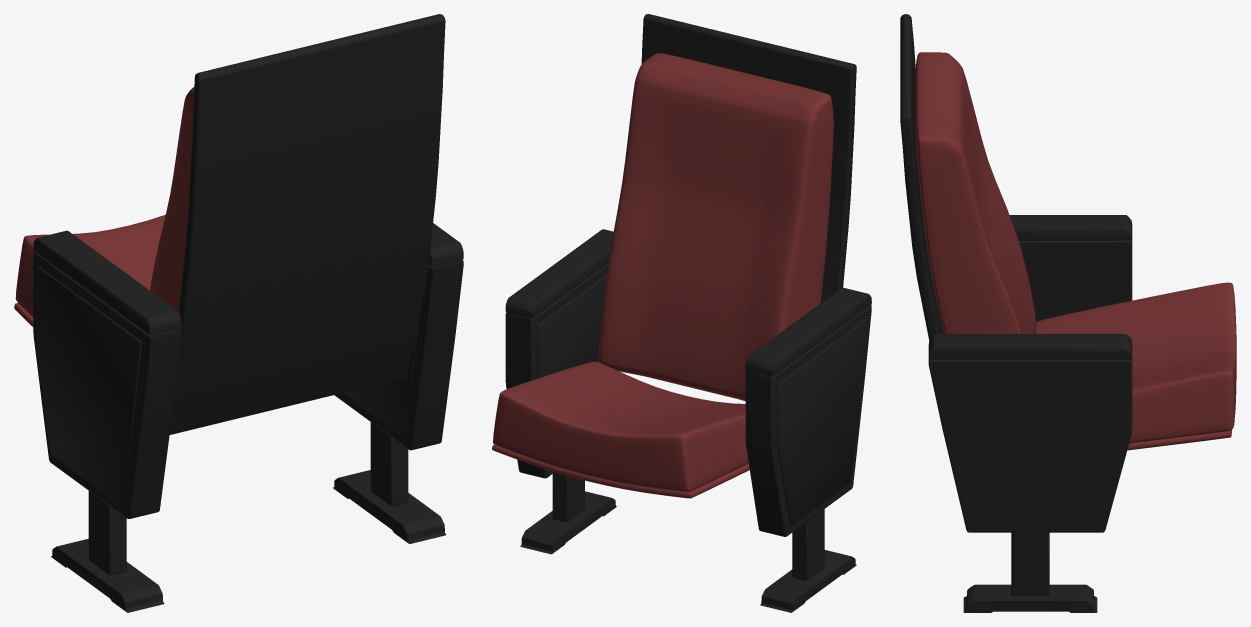
The model's file is seat.glb.
3 renders of one model, left to right at view 1: azimuth 30°, elevation 25°; view 2: azimuth 150°, elevation 25°; view 3: azimuth 270°, elevation 25°, orthographic. The views are drawn at different scales.
Parts seen in each view (by area): view 1: hall_seat; view 2: hall_seat; view 3: hall_seat.
Part boxes in pixels (left/top/right/bottom): hall_seat: left=14, top=14, right=463, bottom=612; hall_seat: left=492, top=14, right=871, bottom=612; hall_seat: left=900, top=14, right=1236, bottom=612.
Size of the model in its own units: 0.5 by 0.829 by 0.5262.
